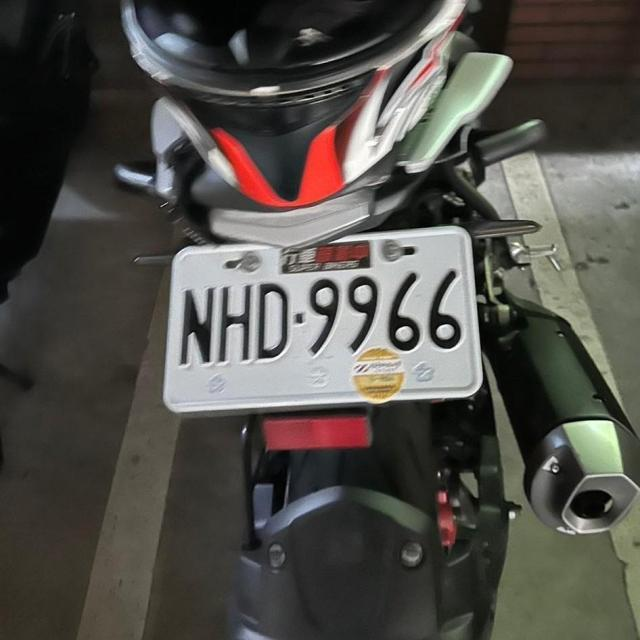W: (147, 210, 489, 429)
